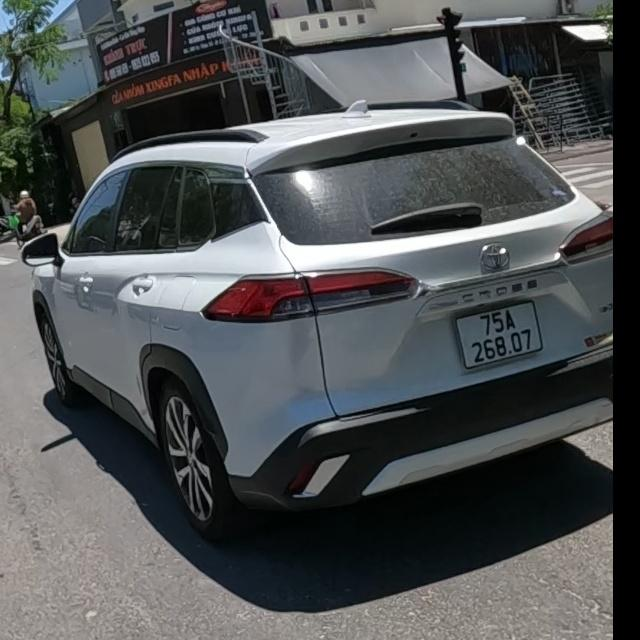license-plate: (454, 299, 545, 373)
